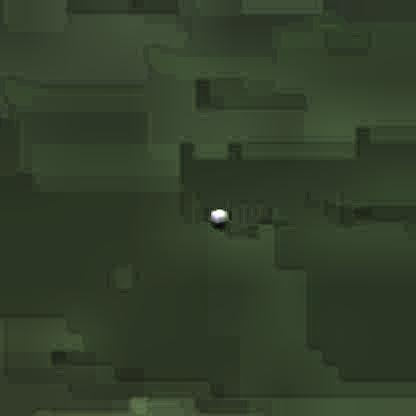golfball: (207, 206, 227, 224)
